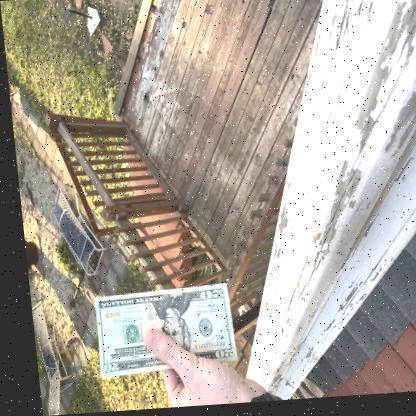dollar_front: (88, 285, 229, 379)
